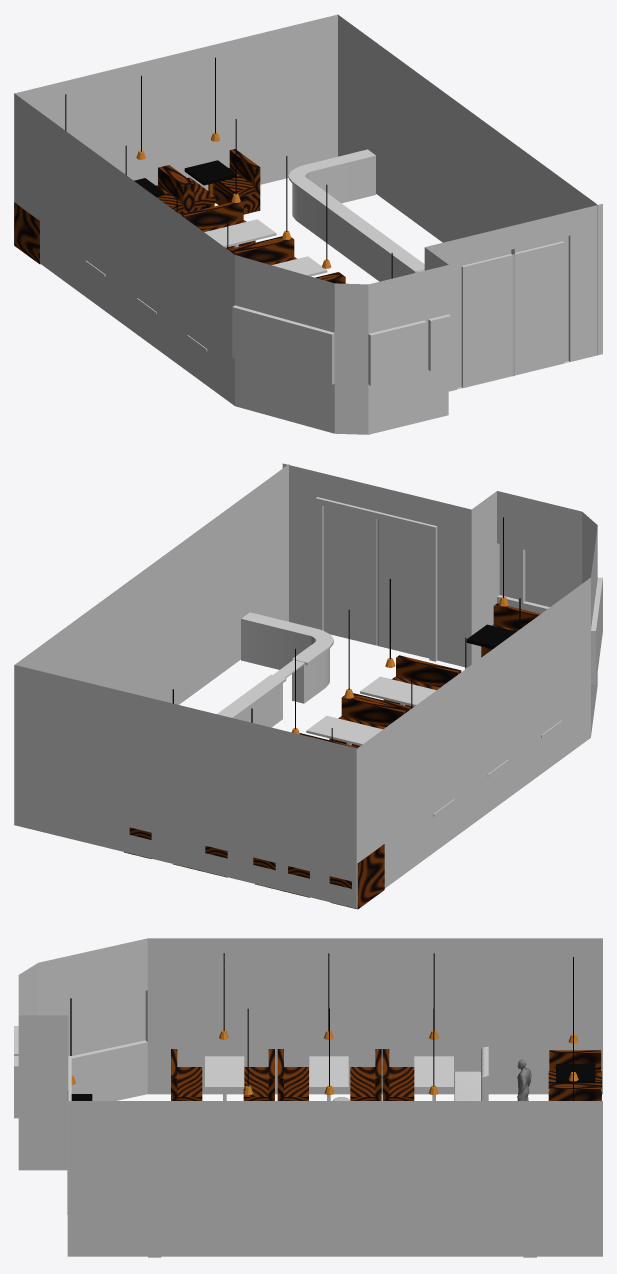
File: Blockout_Scene_01.fbx
3 renders of one model, top to bottom at view 1: azimuth 30°, elevation 25°; view 2: azimuth 150°, elevation 25°; view 3: azimuth 270°, elevation 25°, orthographic. The views are drawn at different scales.
Parts seen in each view (by area): view 1: Wall_Window, Wall_02, Wall_01, Wall_03, Wall_Window.001, Diner_counter, Booth_05.001, Booth_01_OG.013, Cube.007, Booth_03, Booth_01_OG.003, Booth_02 (+3 smaller); view 2: Wall_02, Wall_01, Wall_03, Wall_Window, Wall_Window.001, Diner_counter, Booth_03, Booth_01_OG, Booth_01_OG.002, Cube.003, Cube.005, Booth_01_OG.008 (+1 smaller); view 3: Wall_03, Wall_01, Wall_Window, Cube.004, Cube.002, Cube.006, Booth_01_OG.010, Booth_01_OG.004, Booth_01_OG.006, Booth_01_OG.007, Booth_01_OG.005, Booth_03 (+4 smaller).
Boxes of the visible parts, left/top/right/bottom form: Wall_Window: left=232, top=204, right=602, bottom=434; Wall_02: left=14, top=14, right=337, bottom=202; Wall_01: left=14, top=93, right=234, bottom=405; Wall_03: left=337, top=14, right=597, bottom=355; Wall_Window.001: left=457, top=235, right=570, bottom=389; Diner_counter: left=288, top=149, right=424, bottom=281; Booth_05.001: left=213, top=149, right=260, bottom=214; Booth_01_OG.013: left=182, top=200, right=255, bottom=250; Cube.007: left=204, top=219, right=276, bottom=247; Booth_03: left=14, top=202, right=40, bottom=264; Booth_01_OG.003: left=233, top=237, right=296, bottom=265; Booth_02: left=156, top=166, right=188, bottom=215; Wall_02: left=14, top=665, right=356, bottom=908; Wall_01: left=356, top=577, right=590, bottom=908; Wall_03: left=14, top=464, right=289, bottom=825; Wall_Window: left=282, top=463, right=602, bottom=735; Wall_Window.001: left=315, top=497, right=437, bottom=661; Diner_counter: left=217, top=612, right=333, bottom=727; Booth_03: left=329, top=844, right=384, bottom=909; Booth_01_OG: left=383, top=655, right=461, bottom=708; Booth_01_OG.002: left=329, top=695, right=406, bottom=748; Cube.003: left=306, top=716, right=382, bottom=745; Cube.005: left=360, top=676, right=436, bottom=706; Booth_01_OG.008: left=481, top=603, right=540, bottom=657; Wall_03: left=67, top=1101, right=602, bottom=1256; Wall_01: left=147, top=938, right=602, bottom=1094; Wall_Window: left=14, top=938, right=147, bottom=1170; Cube.004: left=205, top=1056, right=244, bottom=1100; Cube.002: left=414, top=1056, right=453, bottom=1100; Cube.006: left=309, top=1056, right=348, bottom=1100; Booth_01_OG.010: left=382, top=1049, right=414, bottom=1100; Booth_01_OG.004: left=171, top=1049, right=202, bottom=1100; Booth_01_OG.006: left=277, top=1049, right=308, bottom=1100; Booth_01_OG.007: left=350, top=1049, right=381, bottom=1100; Booth_01_OG.005: left=243, top=1049, right=274, bottom=1100; Booth_03: left=548, top=1050, right=601, bottom=1088.
Bounding box in the file's own units: 1044 × 457 × 1553.
